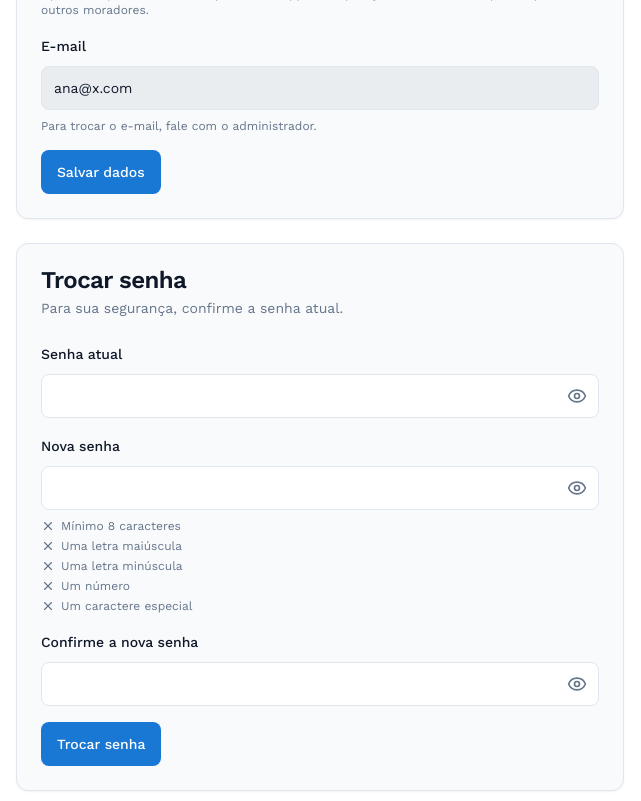
Scenario: MyProfilePage — trocar senha › senha atual errada mostra "Senha atual incorreta."
(page scrolled)
Type "Errada@123" into the password field labelled "Senha atual" at (320, 396), box [41, 374, 599, 418]
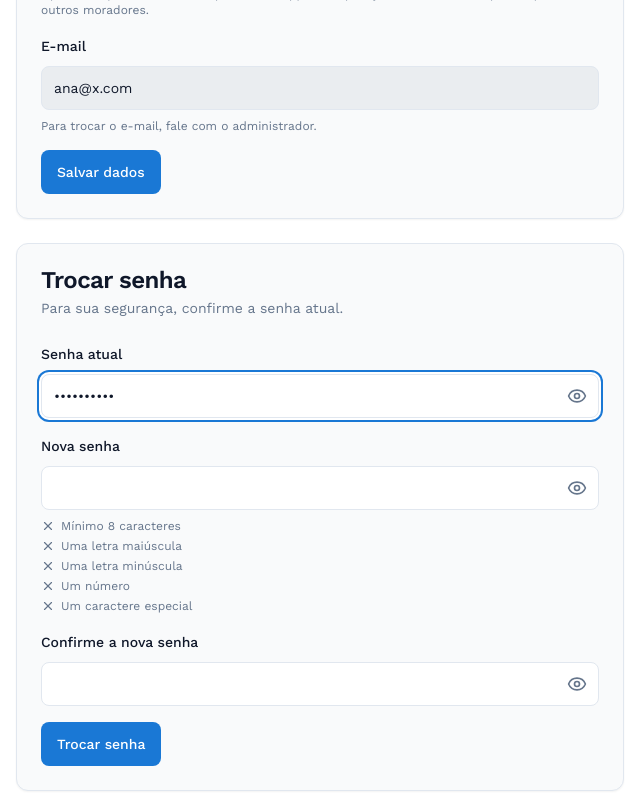
Type "Nova@Senha123" into the password field labelled "Nova senha" at (320, 488), box [41, 466, 599, 510]
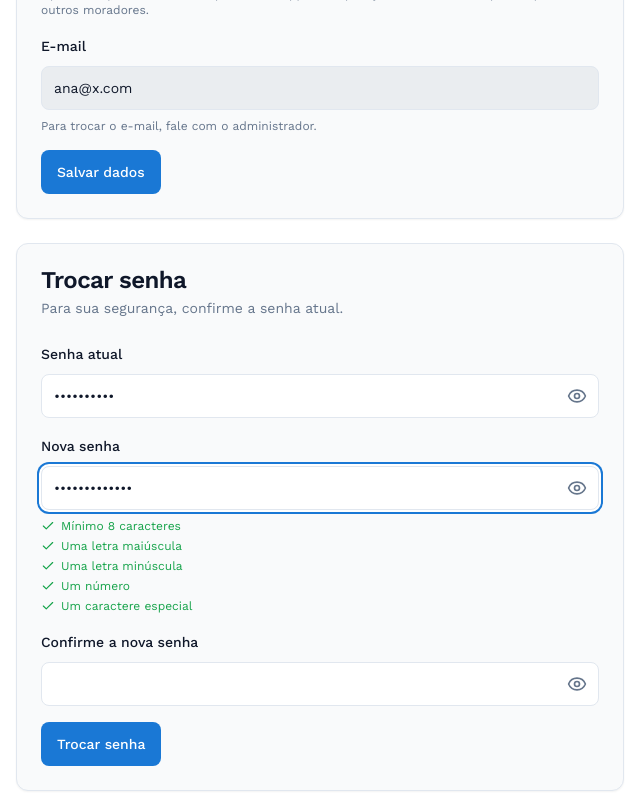
Type "Nova@Senha123" into the password field labelled "Confirme a nova senha" at (320, 684), box [41, 662, 599, 706]
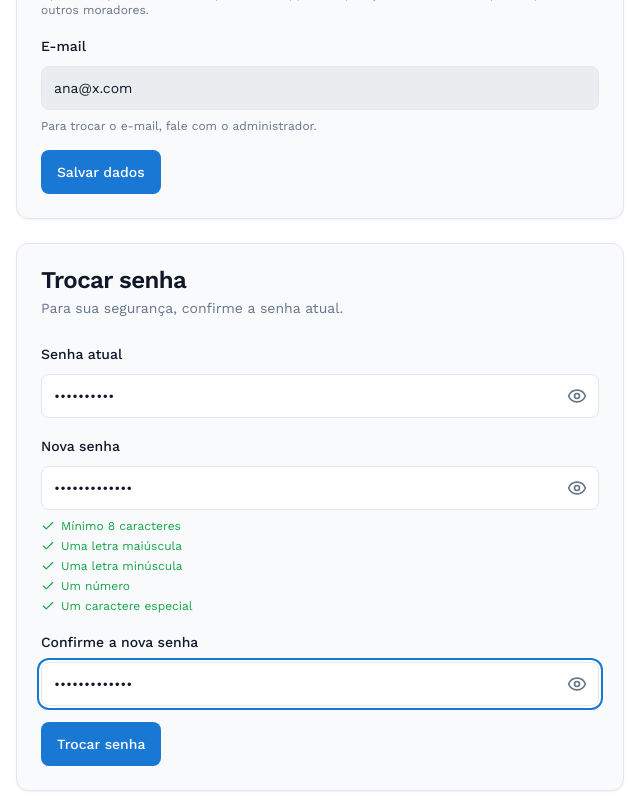
Click the button "Trocar senha" at (101, 744), box [41, 722, 161, 766]
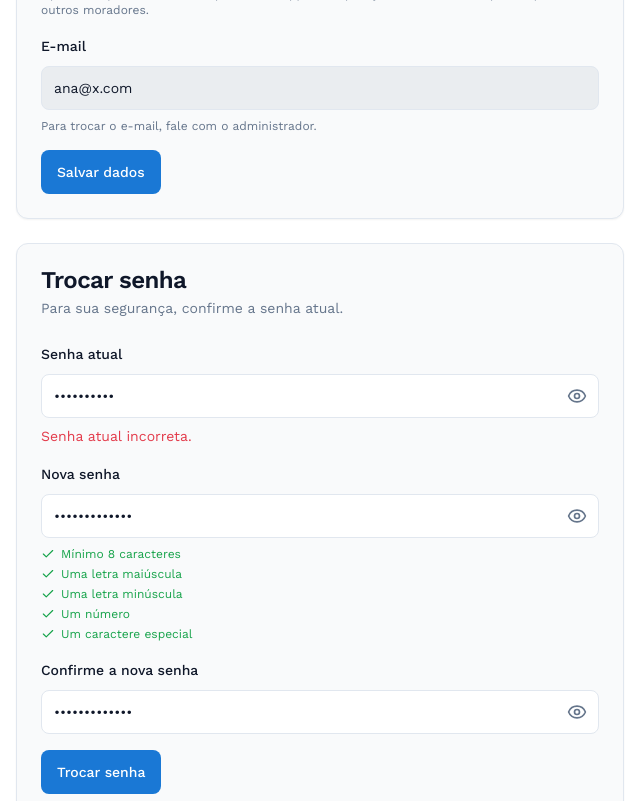
Check: the text "Senha atual incorreta." is shown, box [41, 428, 192, 444]
